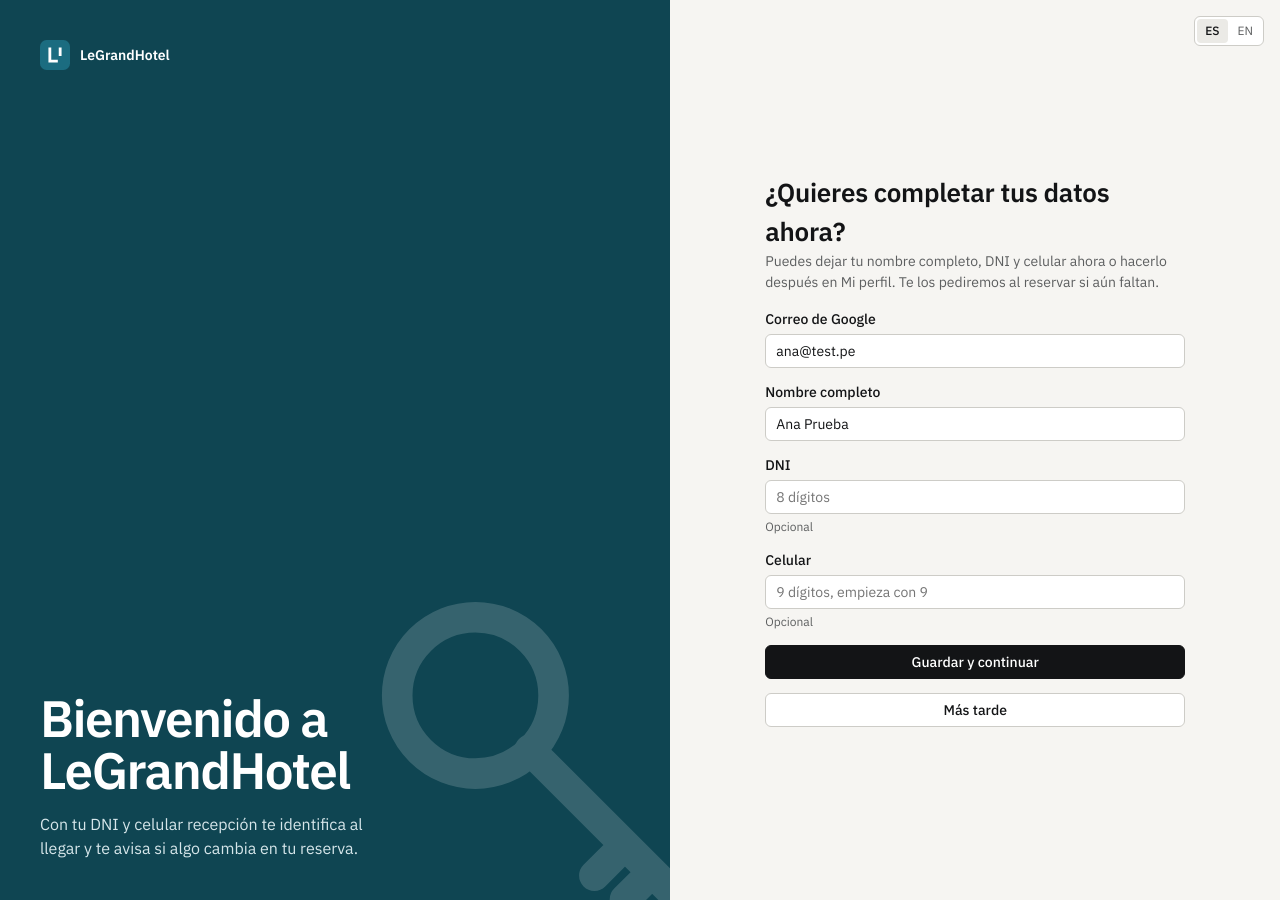
Scenario: cliente con Google › guarda el nombre completo, el DNI y el celular y lo lleva a reservar
Step 1. Type " Soto" into the field labelled "Nombre completo" → (975, 424), box [765,407,1185,441]
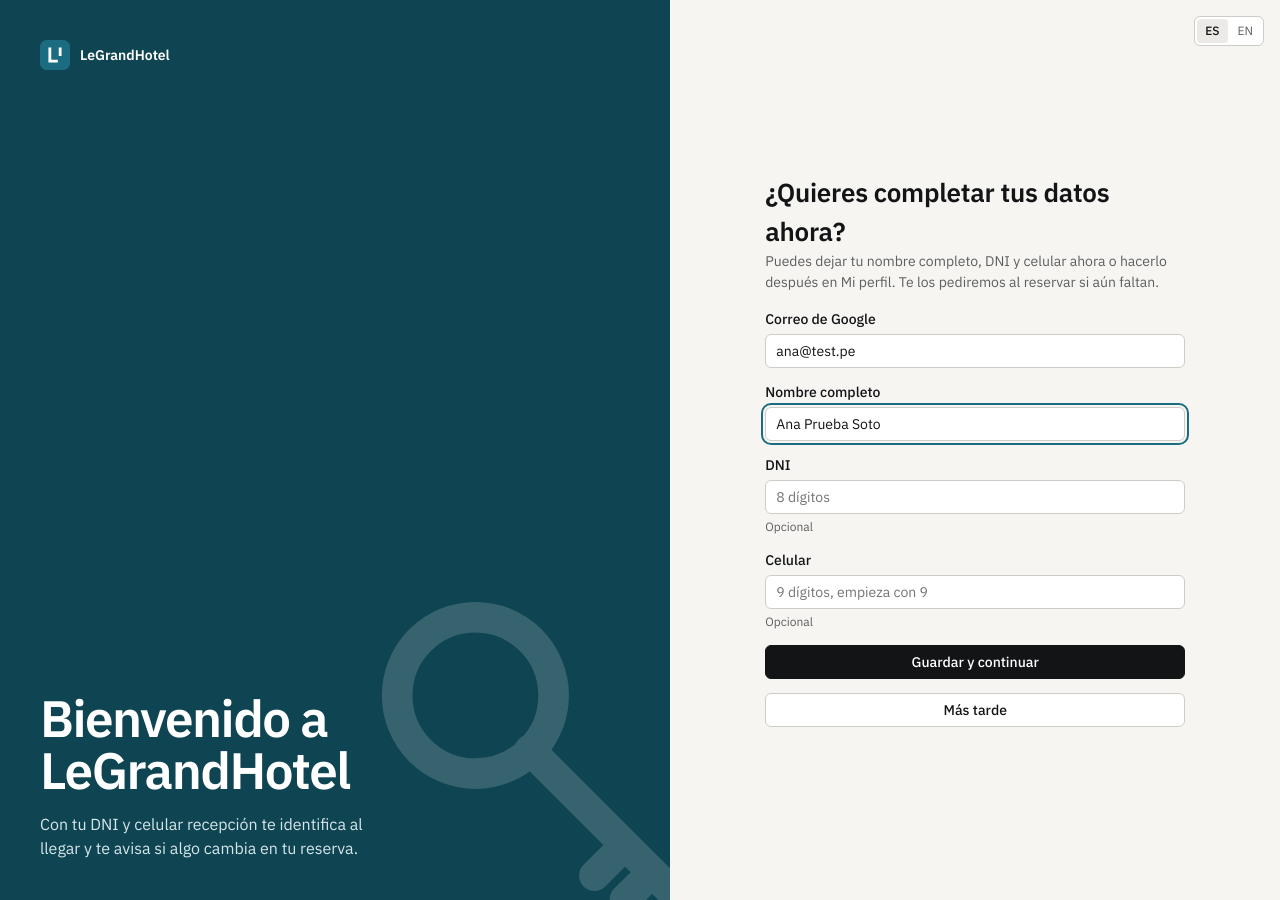
Step 2. Type "45678912" into the field labelled "DNI" → (975, 497), box [765,480,1185,514]
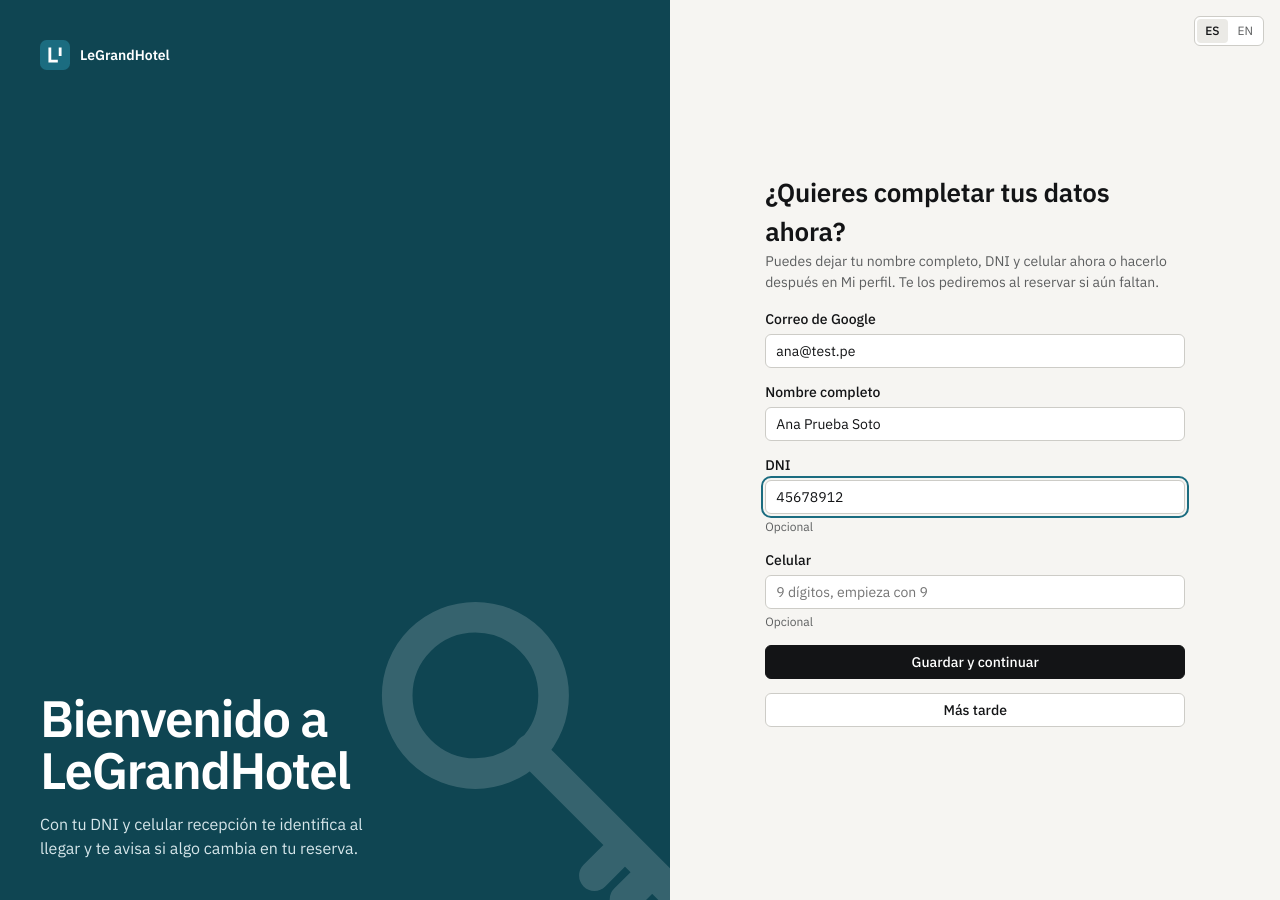
Step 3. Type "987654321" into the field labelled "Celular" → (975, 592), box [765,575,1185,609]
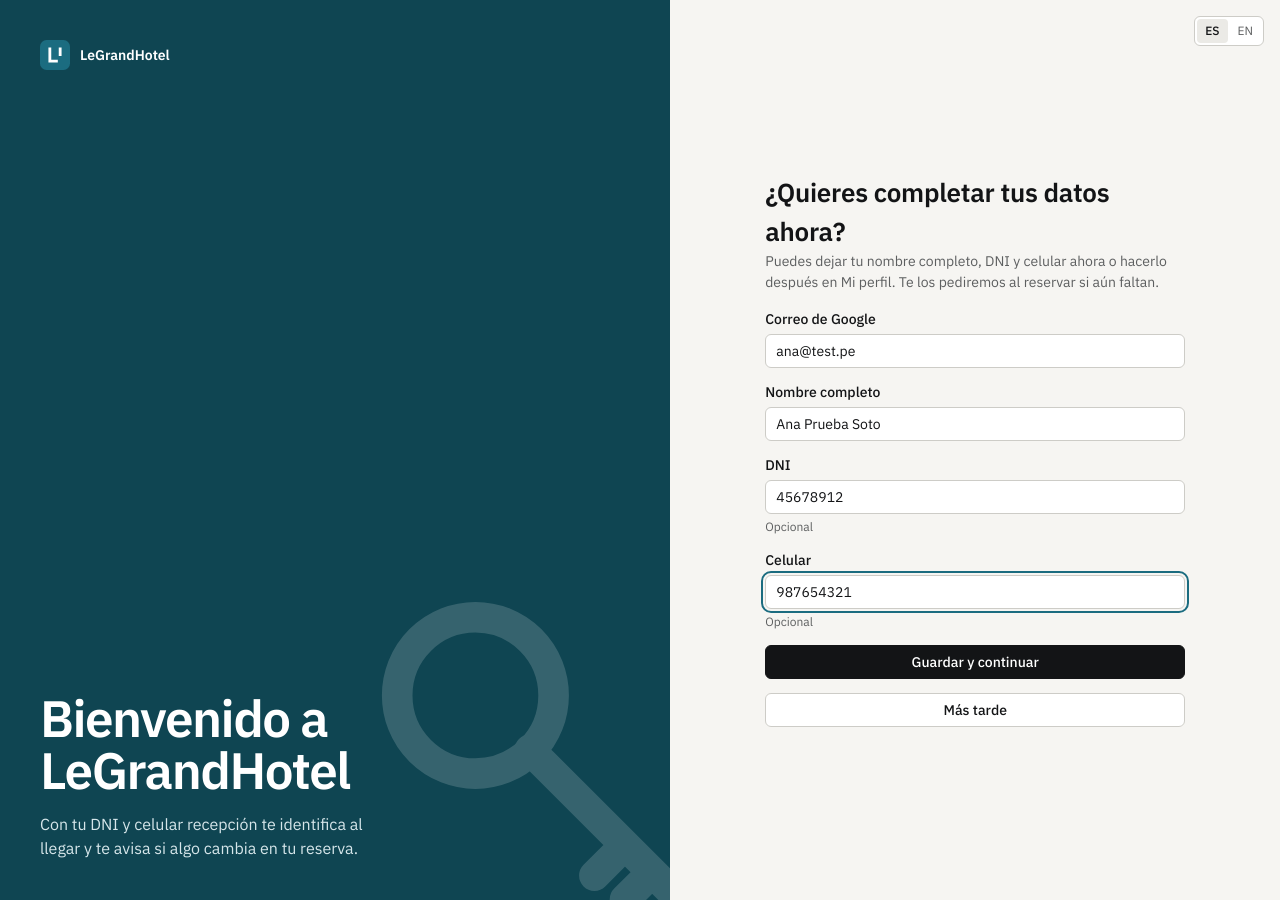
Step 4. Click the button "Guardar y continuar" → (975, 662), box [765,645,1185,679]
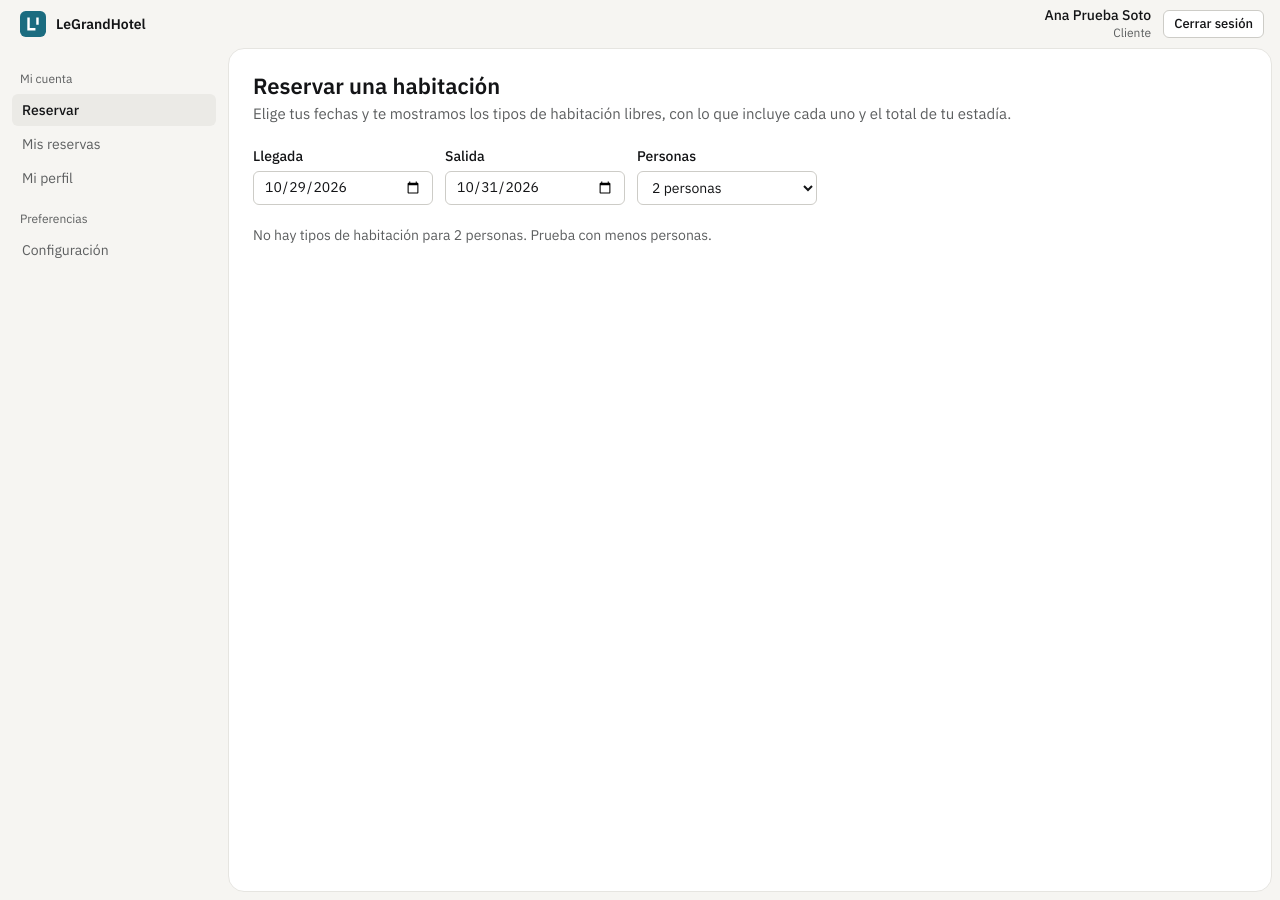
expect the heading "Reservar una habitación" is shown: met, box [253,71,500,100]
